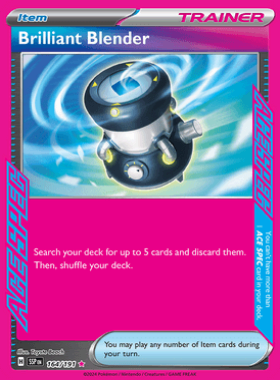Brilliant_Blender: (0, 0, 280, 380)
